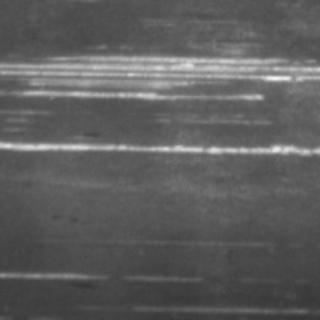scratches: (1, 52, 316, 102), (0, 132, 316, 156)
